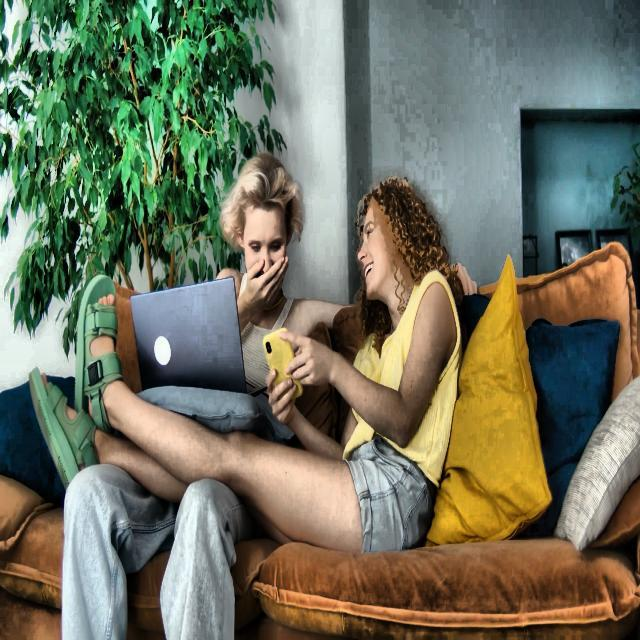Phone: (262, 326, 304, 402)
